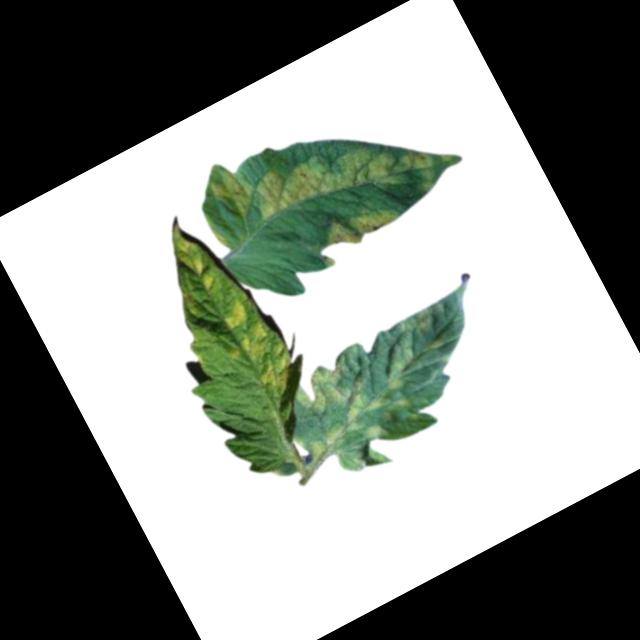Leaf_Mold: (201, 75, 445, 281), (275, 355, 382, 462), (319, 189, 401, 255), (159, 212, 221, 297), (220, 318, 280, 371), (250, 344, 305, 398), (377, 347, 423, 394), (214, 291, 258, 336), (365, 390, 389, 412)
